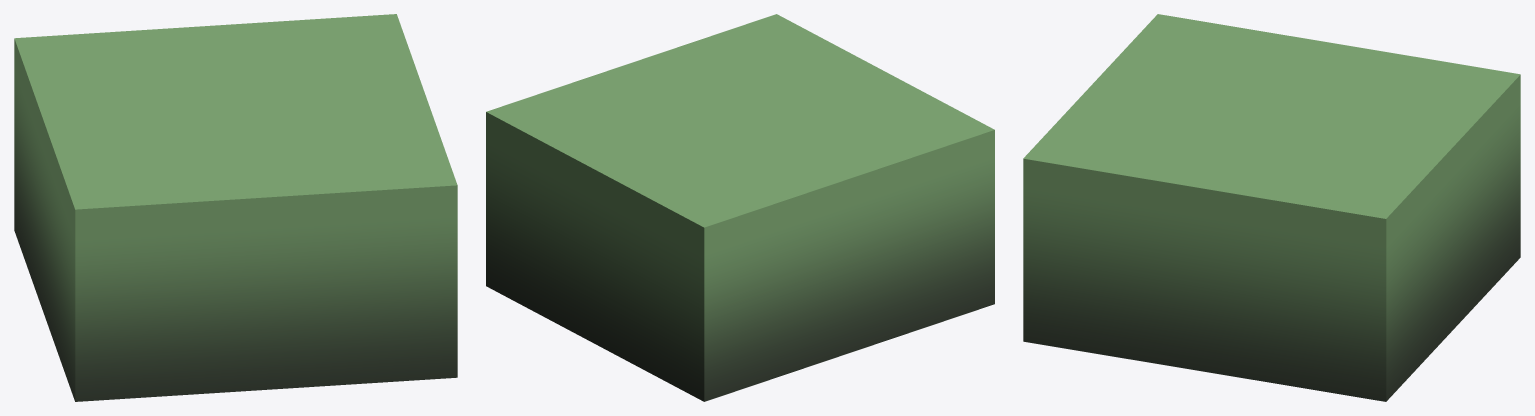
File: Plat01.030.glb
The picture shows the model from 3 angles, left to right: view 1: azimuth 30°, elevation 25°; view 2: azimuth 150°, elevation 25°; view 3: azimuth 270°, elevation 25°; orthographic projection. The views are drawn at different scales.
Parts seen in each view (by area): view 1: Plat01.030; view 2: Plat01.030; view 3: Plat01.030.
Boxes of the visible parts, x1,y1,x2,y2 form: Plat01.030: (14, 14, 457, 401); Plat01.030: (486, 14, 994, 401); Plat01.030: (1023, 14, 1520, 401).
Size of what is drawn, in the model's own units: 4.12 by 1.71 by 4.22.
Materials: 1 (1 with a texture image).
